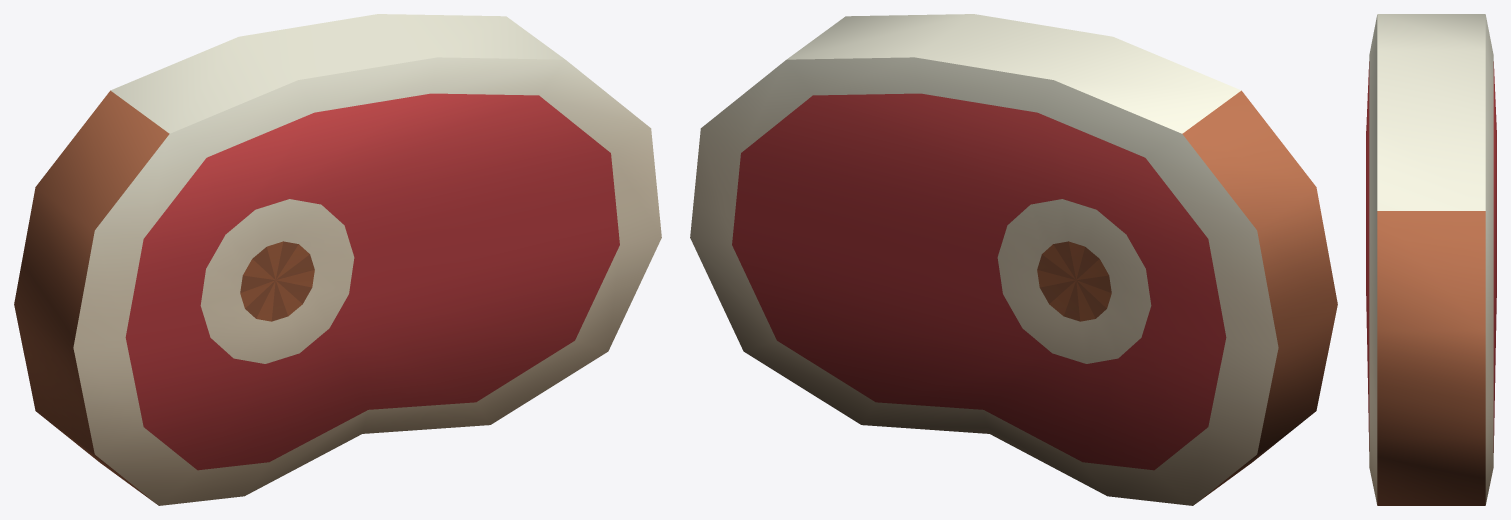
Rendered from food_meat_steak.glb.
3 views of the same model, side by side, from view 1: azimuth 30°, elevation 25°; view 2: azimuth 150°, elevation 25°; view 3: azimuth 270°, elevation 25° (orthographic). The views are drawn at different scales.
Visible parts, largest first — view 1: Item; view 2: Item; view 3: Item.
Boxes of the visible parts, x1,y1,x2,y2 form: Item: [14, 14, 661, 505]; Item: [690, 14, 1337, 505]; Item: [1366, 14, 1496, 505].
Size of the model in its own units: 0.55 by 0.36 by 0.116.
1 material, 1 textured.
